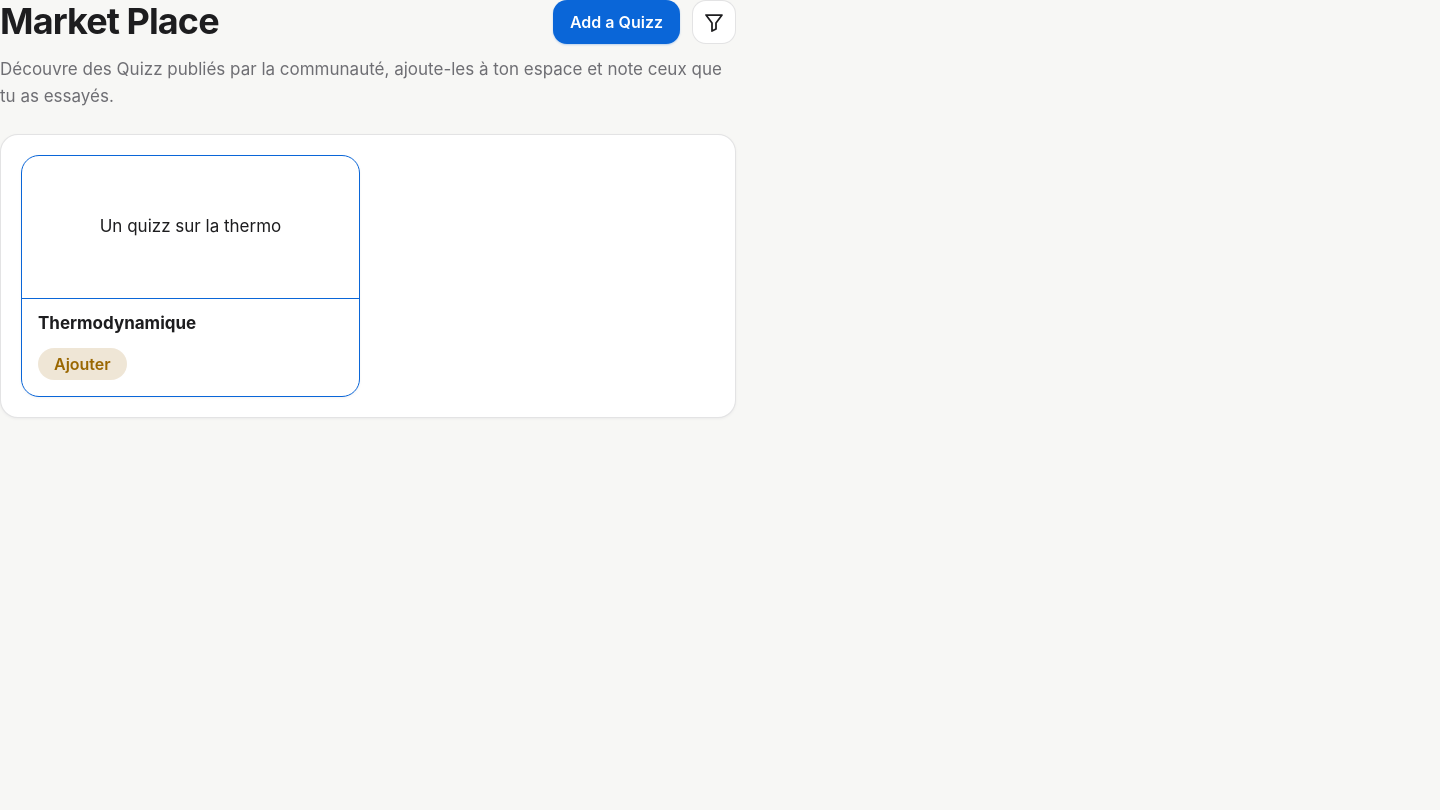
Test: MarketplacePage › opens the detail modal by clicking the card, shows an error on failure, then closes it
The image size is (1440, 810).
What coordinates should you click on to do the following:
click the button "Un quizz sur la thermo Thermodynamique"
I would click on:
 (190, 252)
Its box is [22, 156, 359, 348].
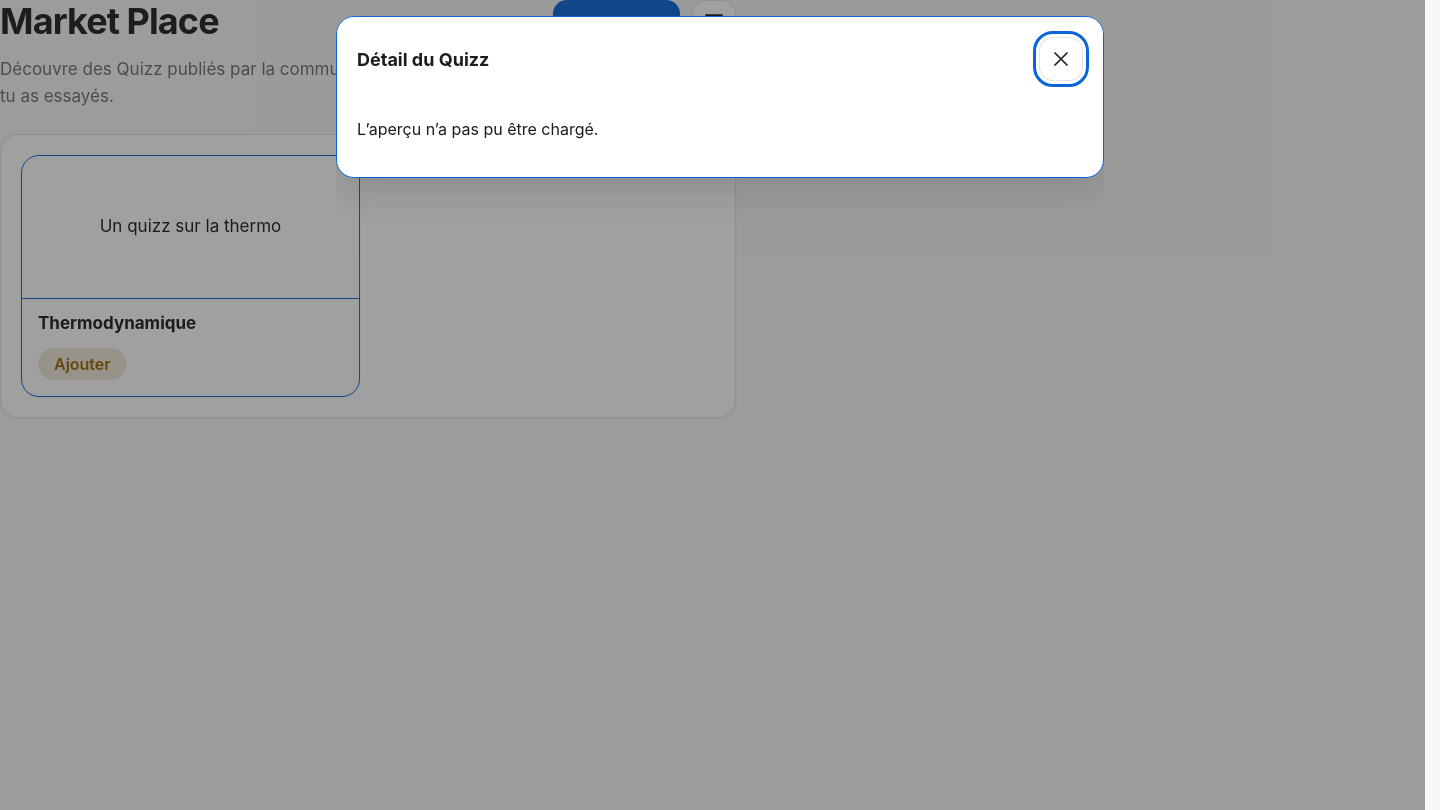
Result: the text "L’aperçu n’a pas pu être chargé." is shown at [357, 119, 598, 139]
What coordinates should you click on to do the following:
click the button named "Fermer l’aperçu"
I would click on:
 (1061, 59)
Its box is [1039, 37, 1083, 81].
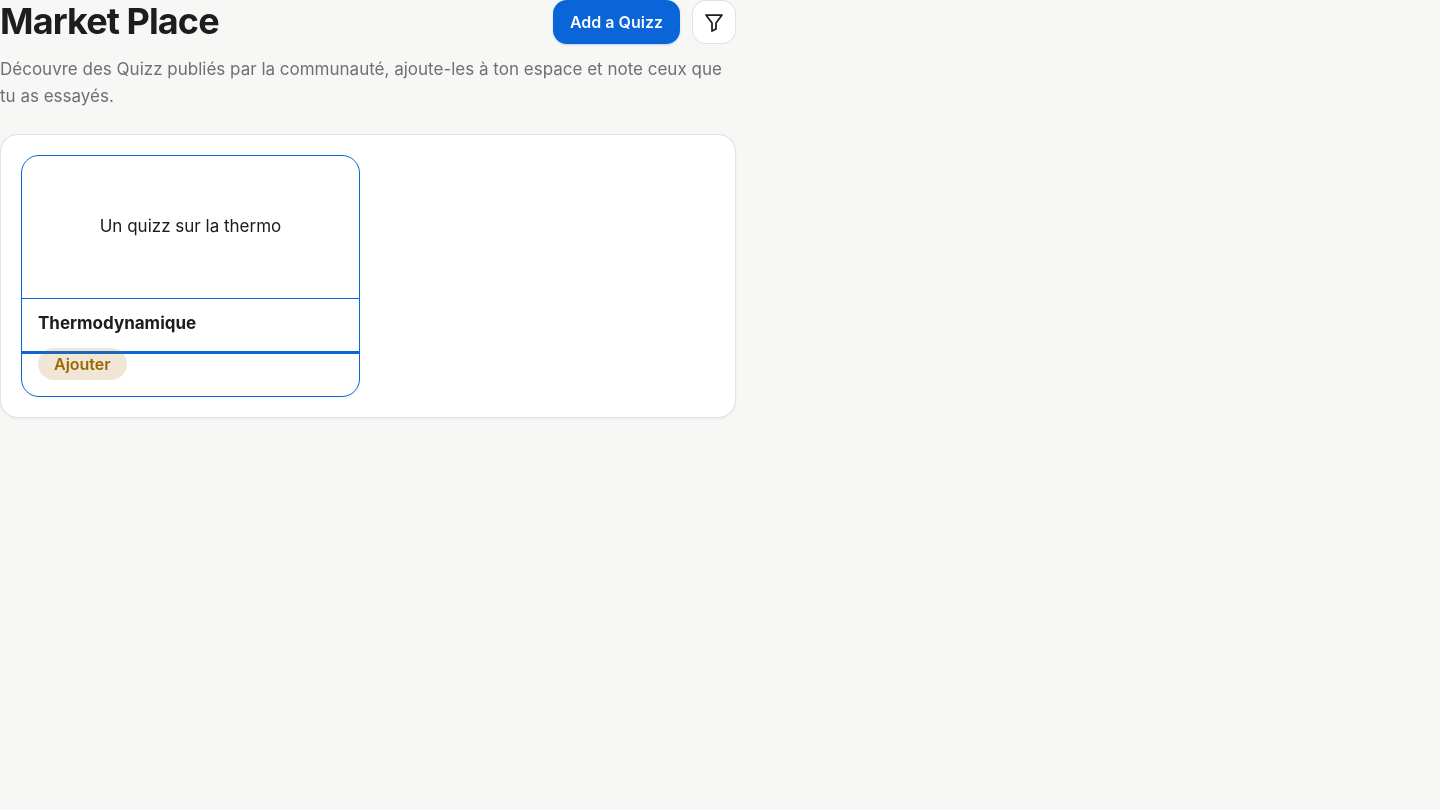
Result: the text "L’aperçu n’a pas pu être chargé." is gone
